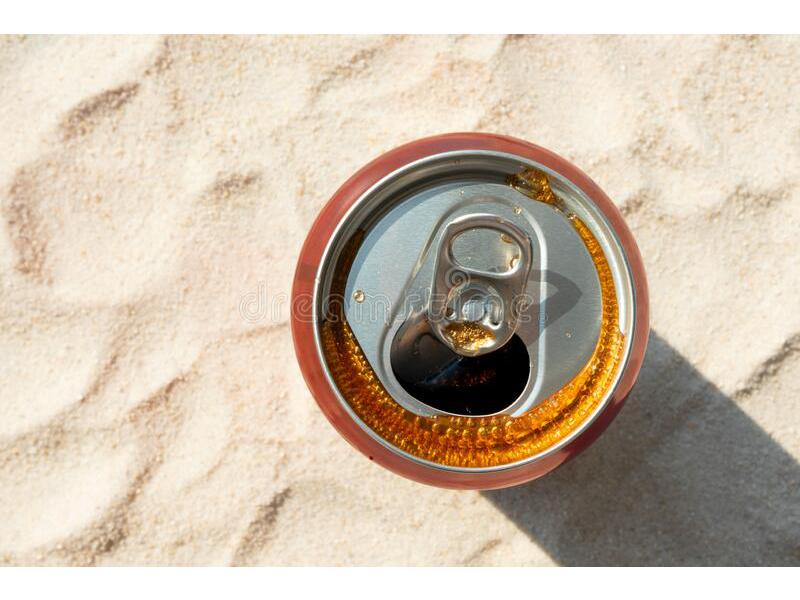can: (281, 105, 662, 513)
